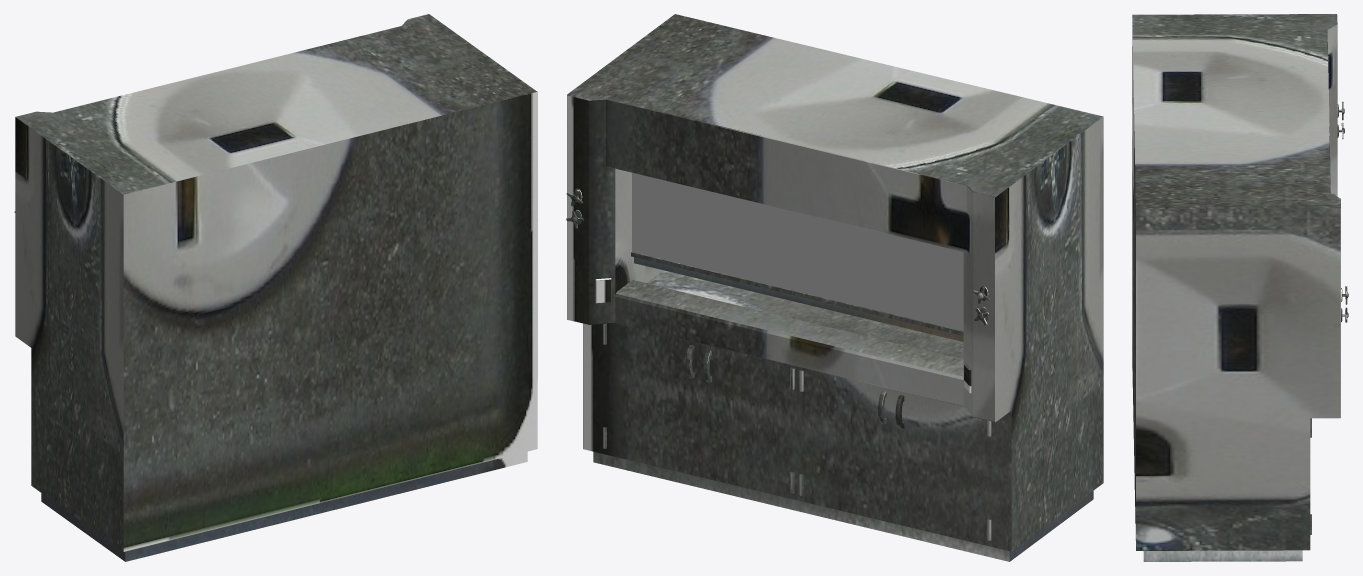
The model's file is Fume Hood.fbx.
The picture shows the model from 3 angles, left to right: view 1: azimuth 30°, elevation 25°; view 2: azimuth 150°, elevation 25°; view 3: azimuth 270°, elevation 25°; orthographic projection. The views are drawn at different scales.
Parts seen in each view (by area): view 1: Fume005; view 2: Fume005, Fume000; view 3: Fume005.
Part boxes in pixels (x1,y1,x2,y2): Fume005: (15,14,537,561); Fume005: (567,14,1103,561); Fume000: (631,172,963,341); Fume005: (1132,14,1342,561).
Size of the model in its own units: 302 by 257 by 142.
Materials: 2 (1 with a texture image).
